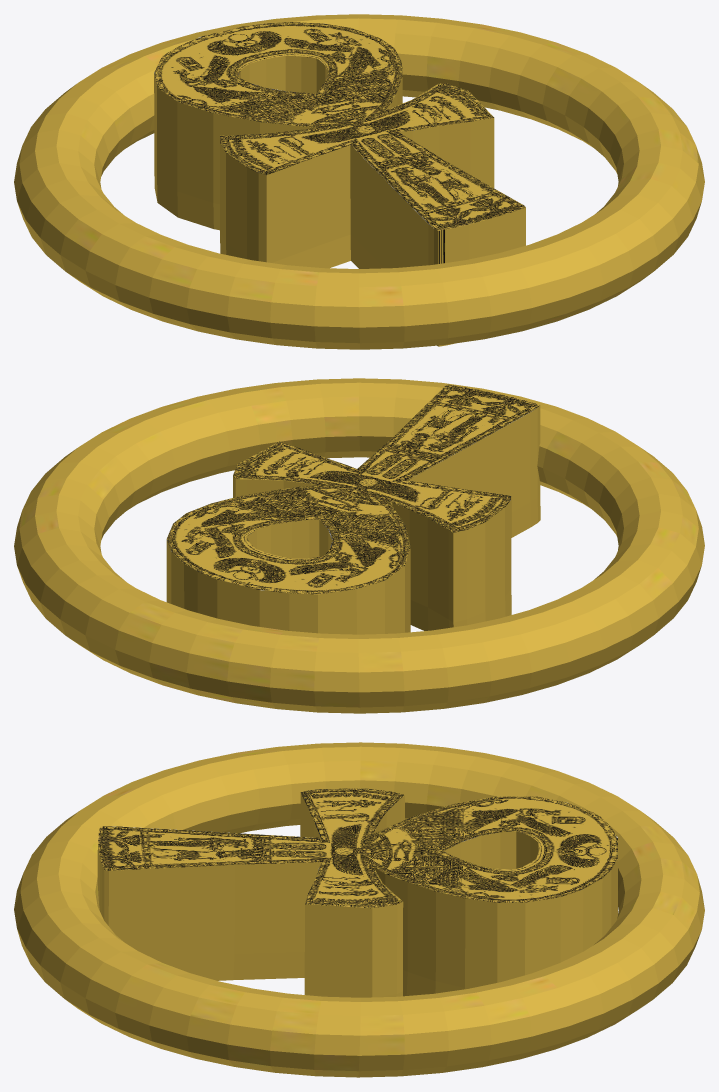
The model's file is faith_token_ankh.glb.
3 views of the same model, one above another, from view 1: azimuth 30°, elevation 25°; view 2: azimuth 150°, elevation 25°; view 3: azimuth 270°, elevation 25° (orthographic).
Visible parts, largest first — view 1: ankhToken; view 2: ankhToken; view 3: ankhToken.
Part boxes in pixels (x1,y1,x2,y2): ankhToken: (14, 14, 704, 349); ankhToken: (14, 378, 704, 713); ankhToken: (14, 742, 704, 1077).
Size of the model in its own units: 2.4 by 0.4452 by 2.4.
1 material, 1 textured.
